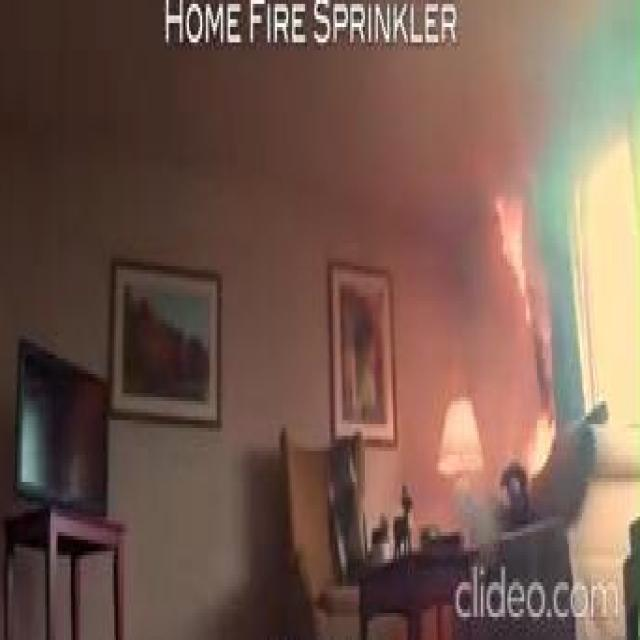smoke: (491, 185, 532, 320), (533, 270, 554, 397), (530, 393, 558, 482)
